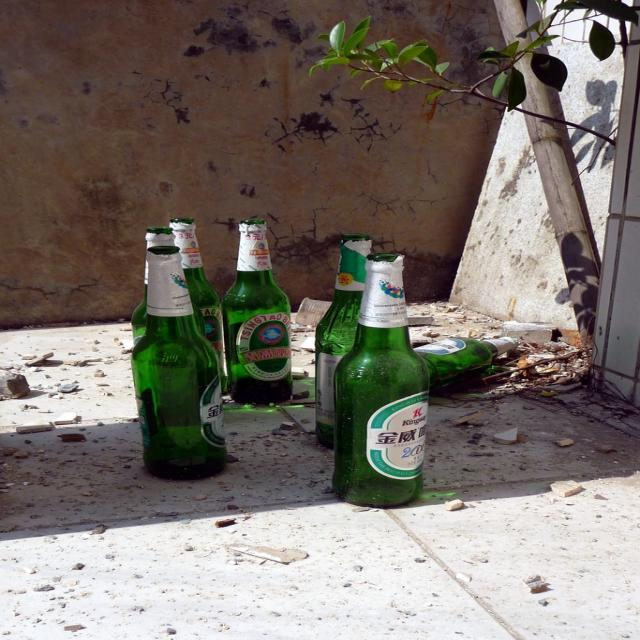tsingtao: (258, 326, 286, 346)
